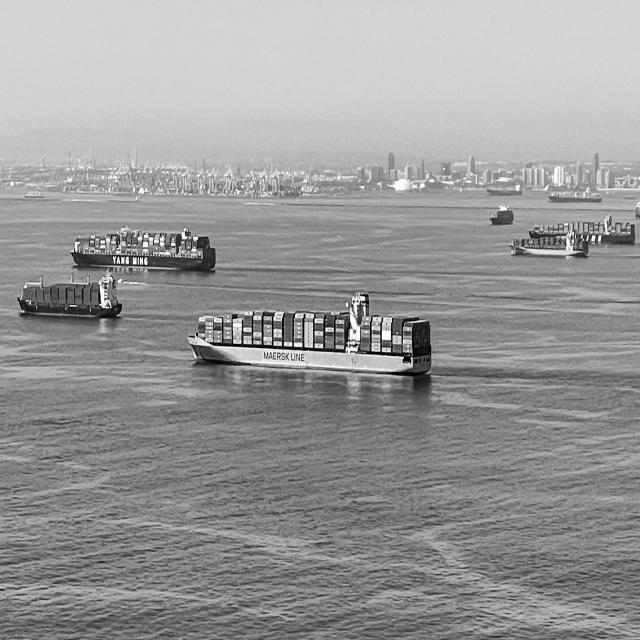Container Ship: (186, 287, 434, 382), (71, 224, 216, 272), (17, 270, 122, 319)
